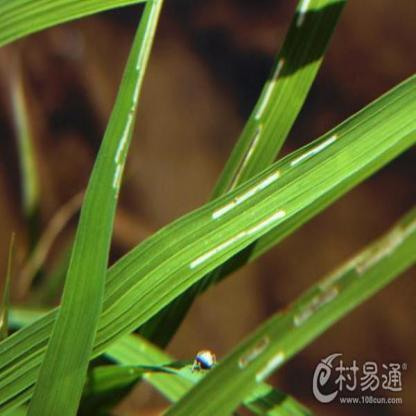rice-bug: (192, 346, 220, 370)
